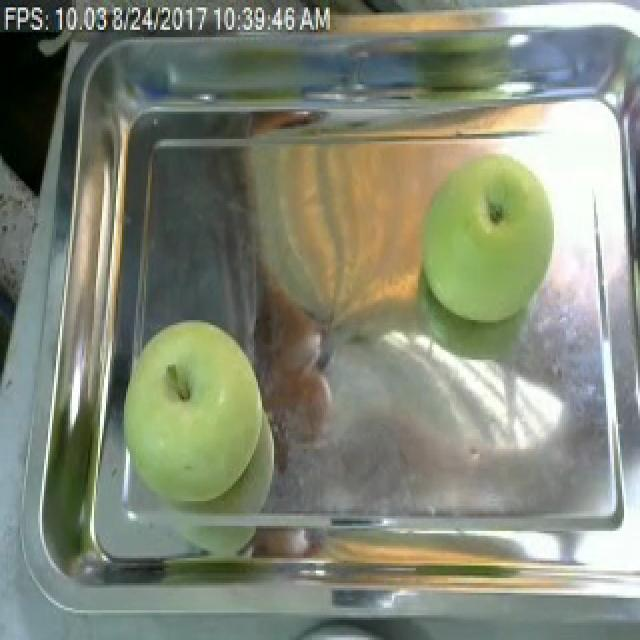50-_ripeness: (125, 315, 268, 500), (422, 153, 558, 326)
